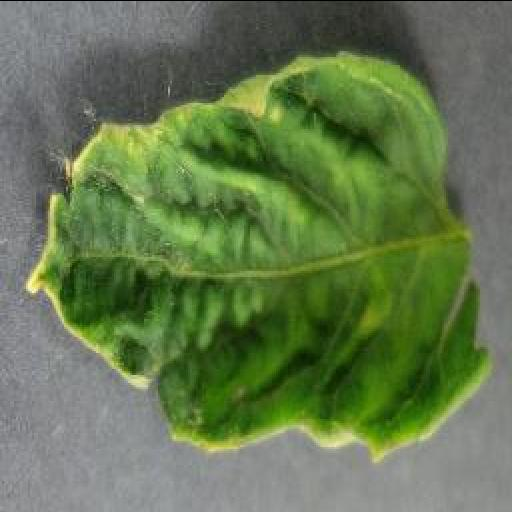disease_tomato: (24, 48, 494, 458)
